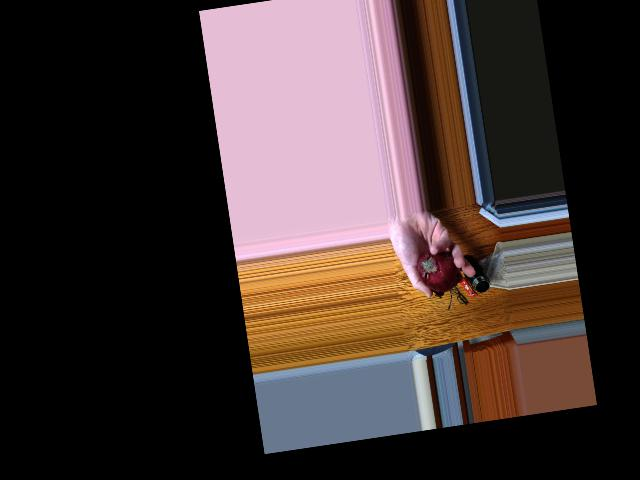onion: (414, 248, 459, 290)
